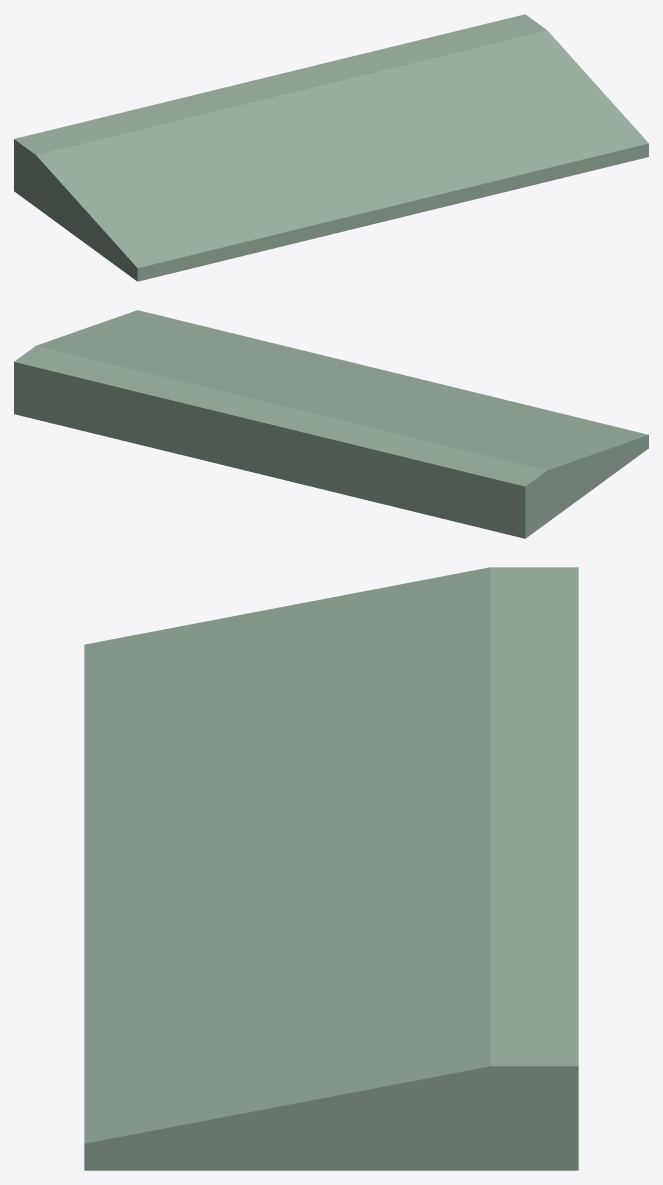
The model's file is computerKeyboard.glb.
The picture shows the model from 3 angles, top to bottom: view 1: azimuth 30°, elevation 25°; view 2: azimuth 150°, elevation 25°; view 3: azimuth 270°, elevation 25°; orthographic projection. The views are drawn at different scales.
Parts seen in each view (by area): view 1: computerKeyboard(Clone); view 2: computerKeyboard(Clone); view 3: computerKeyboard(Clone).
Boxes of the visible parts, left/top/right/bottom form: computerKeyboard(Clone): left=14, top=14, right=648, bottom=281; computerKeyboard(Clone): left=14, top=310, right=648, bottom=538; computerKeyboard(Clone): left=84, top=567, right=578, bottom=1170.
Size of the model in its own units: 0.2822 by 0.0276 by 0.1182.
